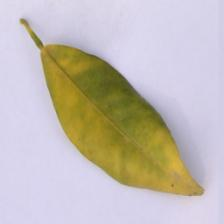greening: (28, 34, 216, 203)
